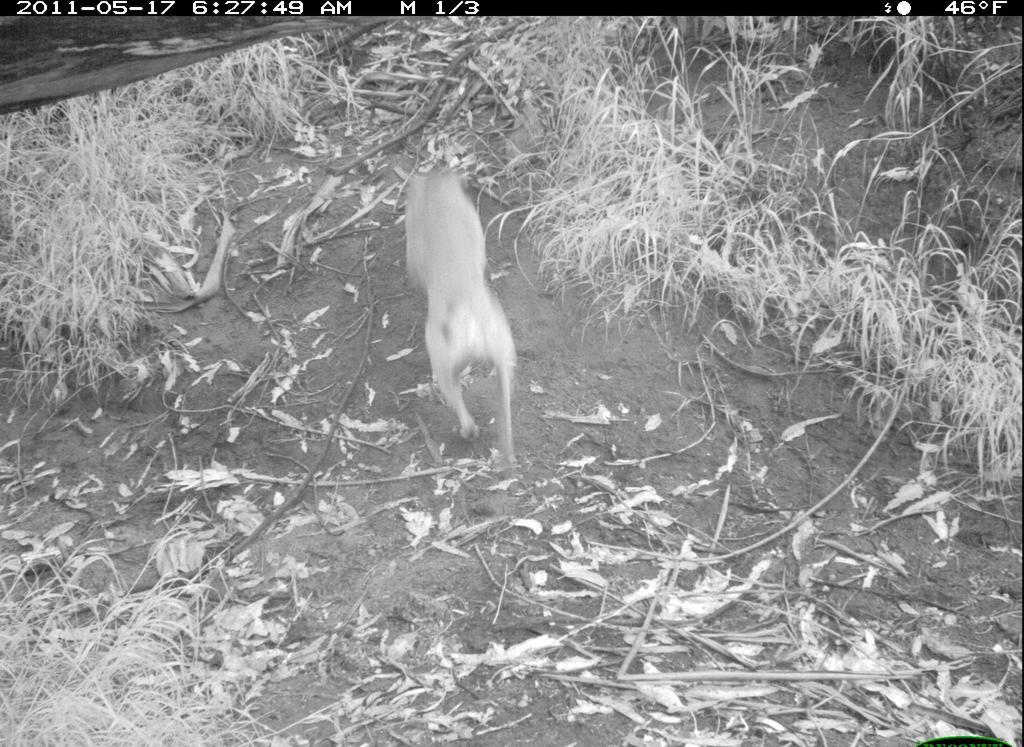dog: (399, 155, 543, 482)
